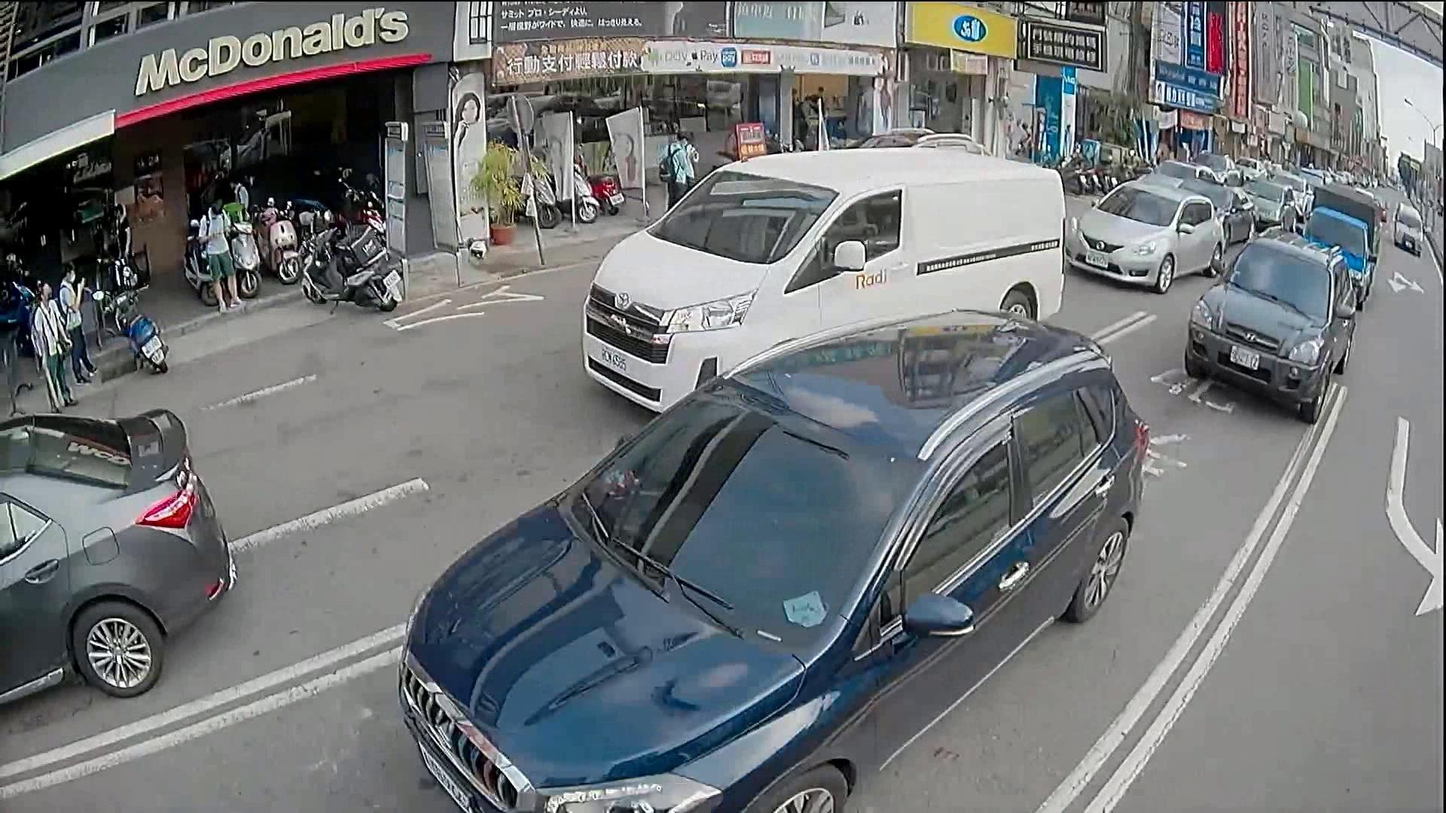person: (26, 271, 78, 413), (196, 201, 246, 313), (56, 271, 94, 384), (105, 197, 140, 285), (657, 128, 688, 209)
